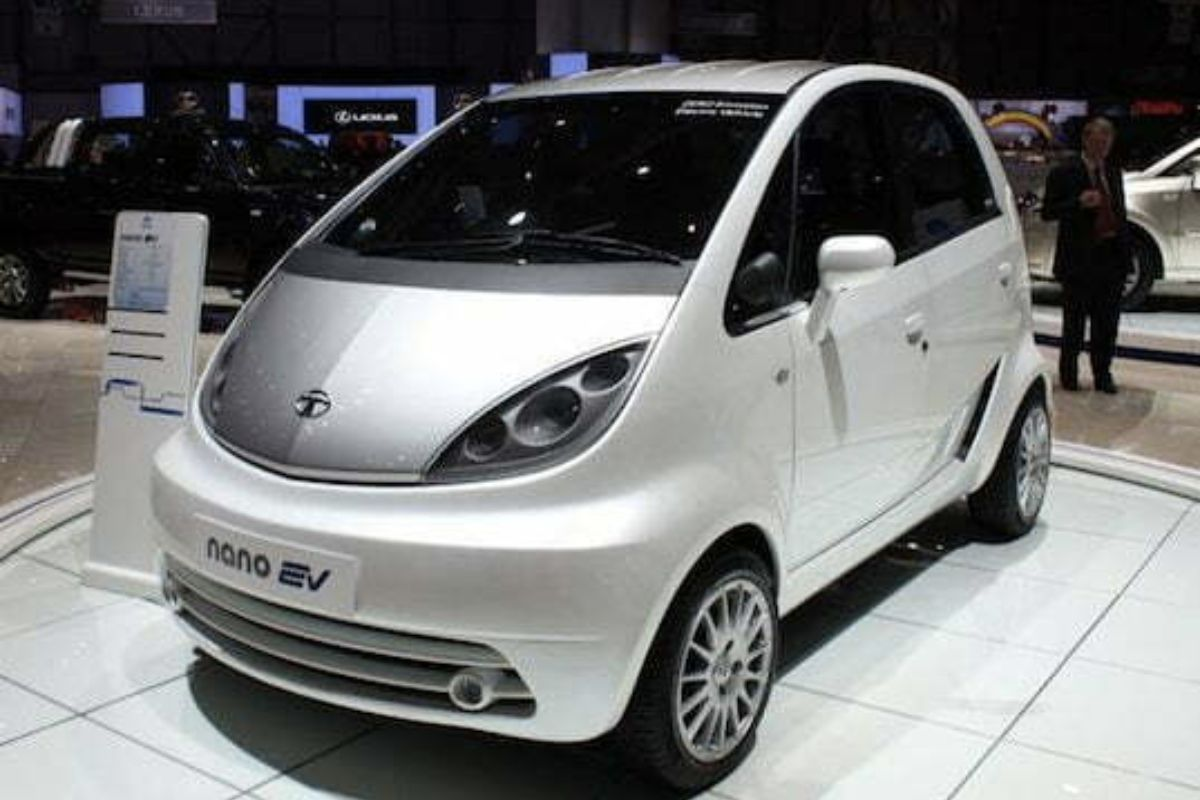Nano: (150, 56, 1058, 792)
